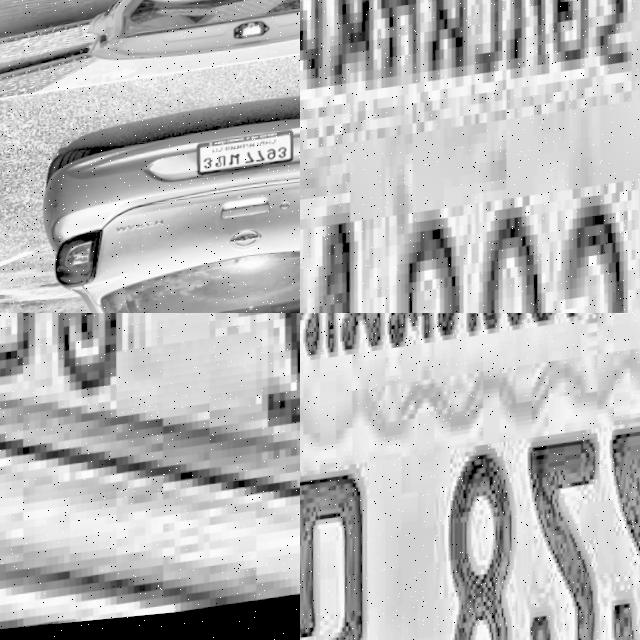license-plate: (300, 313, 640, 640), (300, 0, 640, 313), (0, 313, 300, 617), (198, 133, 300, 191)
